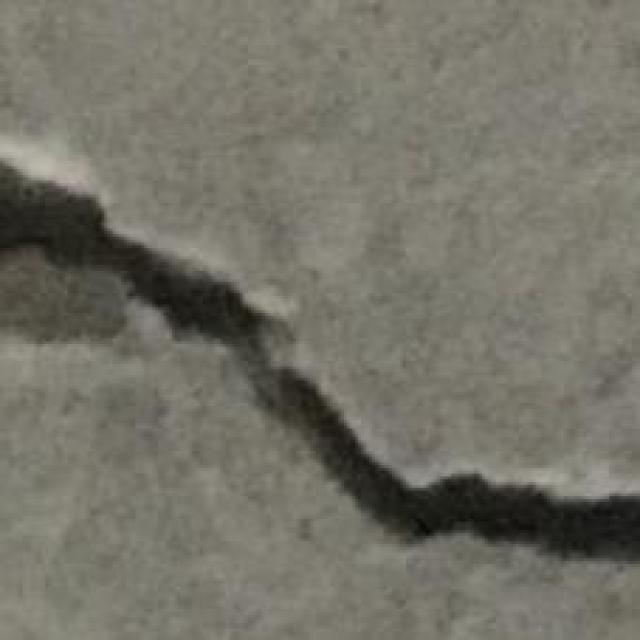Crack: (1, 156, 640, 574)
